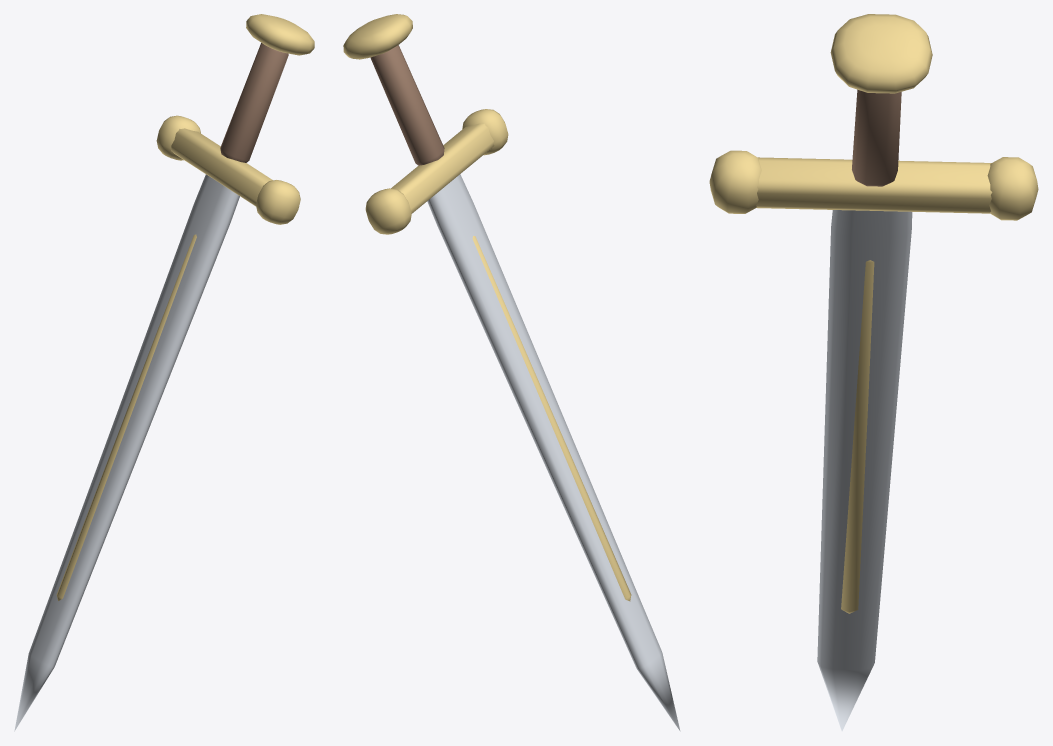
File: smiths-edge.glb
3 views of the same model, side by side, from view 1: azimuth 30°, elevation 25°; view 2: azimuth 150°, elevation 25°; view 3: azimuth 270°, elevation 25° (orthographic). The views are drawn at different scales.
Parts seen in each view (by area): view 1: smiths_edge; view 2: smiths_edge; view 3: smiths_edge.
Part boxes in pixels (bbox=[...]): smiths_edge: bbox=[14, 14, 314, 731]; smiths_edge: bbox=[343, 14, 680, 731]; smiths_edge: bbox=[709, 14, 1038, 731].
Bounding box in the file's own units: 0.4104 × 0.8141 × 0.2706.
